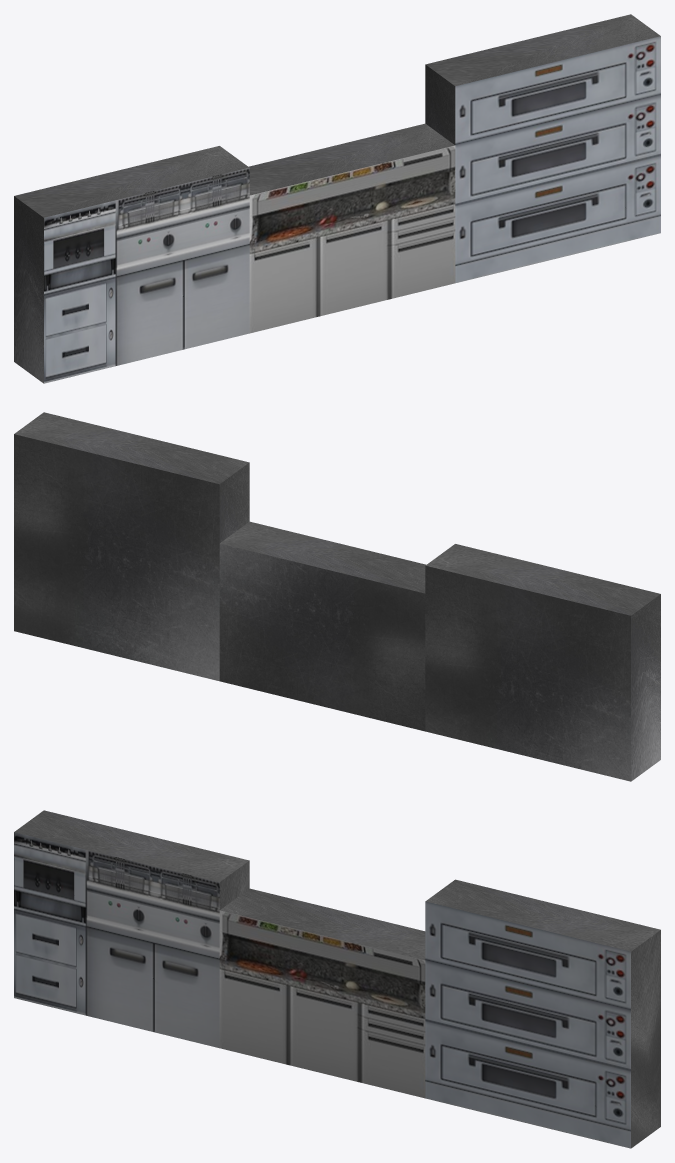
Rendered from cocina.fbx.
3 views of the same model, one above another, from view 1: azimuth 30°, elevation 25°; view 2: azimuth 150°, elevation 25°; view 3: azimuth 330°, elevation 25° (orthographic).
Parts seen in each view (by area): view 1: Cocina_1, Cocina_3, Cocina_2; view 2: Cocina_1, Cocina_3, Cocina_2; view 3: Cocina_1, Cocina_3, Cocina_2.
Part boxes in pixels (x1,y1,x2,y2): Cocina_1: (425,14,660,283); Cocina_3: (14,146,249,383); Cocina_2: (248,123,455,333); Cocina_1: (14,412,249,681); Cocina_3: (425,544,660,781); Cocina_2: (219,521,426,731); Cocina_1: (425,879,660,1148); Cocina_3: (14,810,249,1048); Cocina_2: (219,888,425,1098).
Bounding box in the file's own units: 1040 × 317 × 87.21.
Materials: 3 (3 with a texture image).
